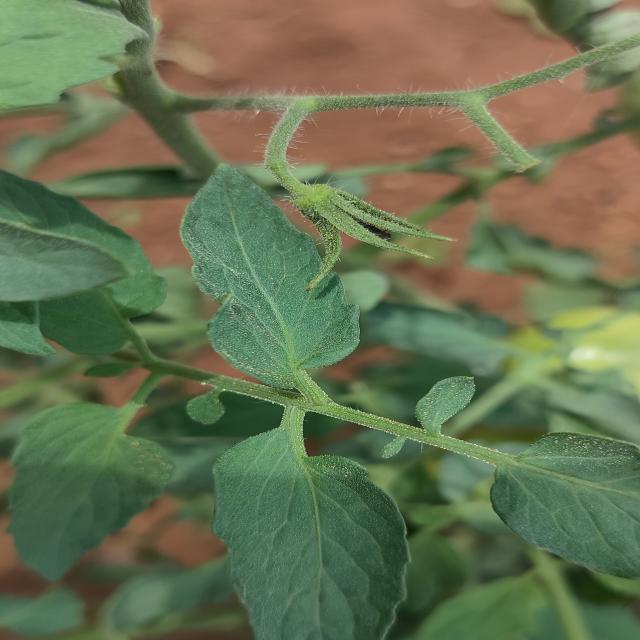tomato_healthy: (179, 159, 365, 385), (0, 384, 199, 580), (219, 435, 403, 640)
